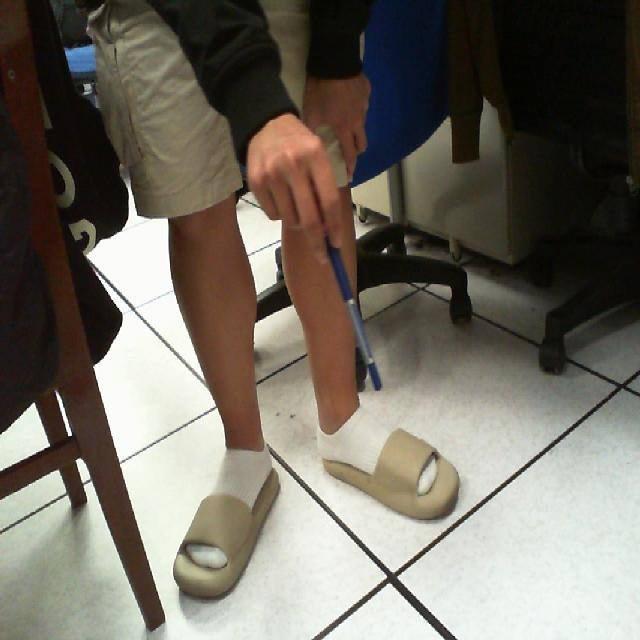Pen: (309, 208, 399, 419)
